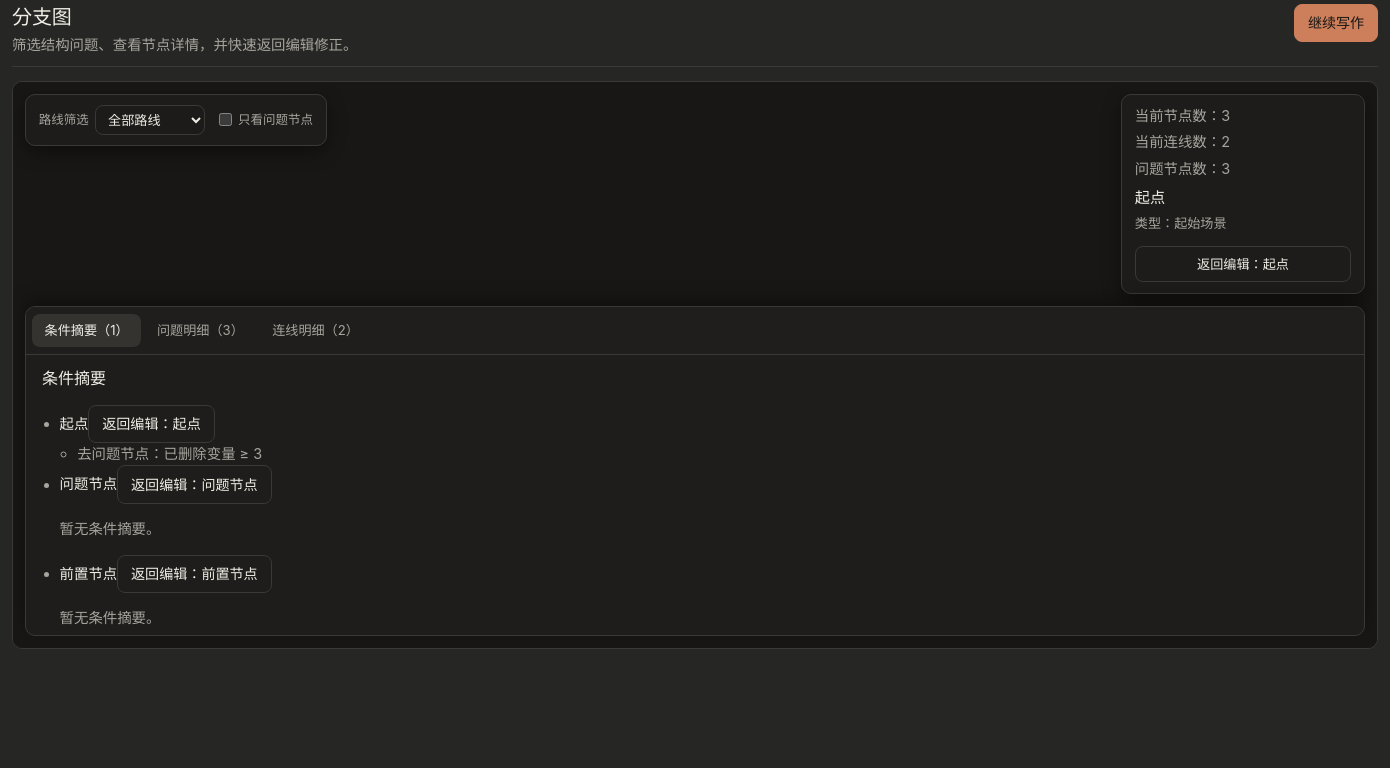
GraphPage › 显示问题明细并在只看问题节点时跟随当前子图收缩
Click the tab "问题明细（3）" at (200,330), box [145, 314, 256, 347]
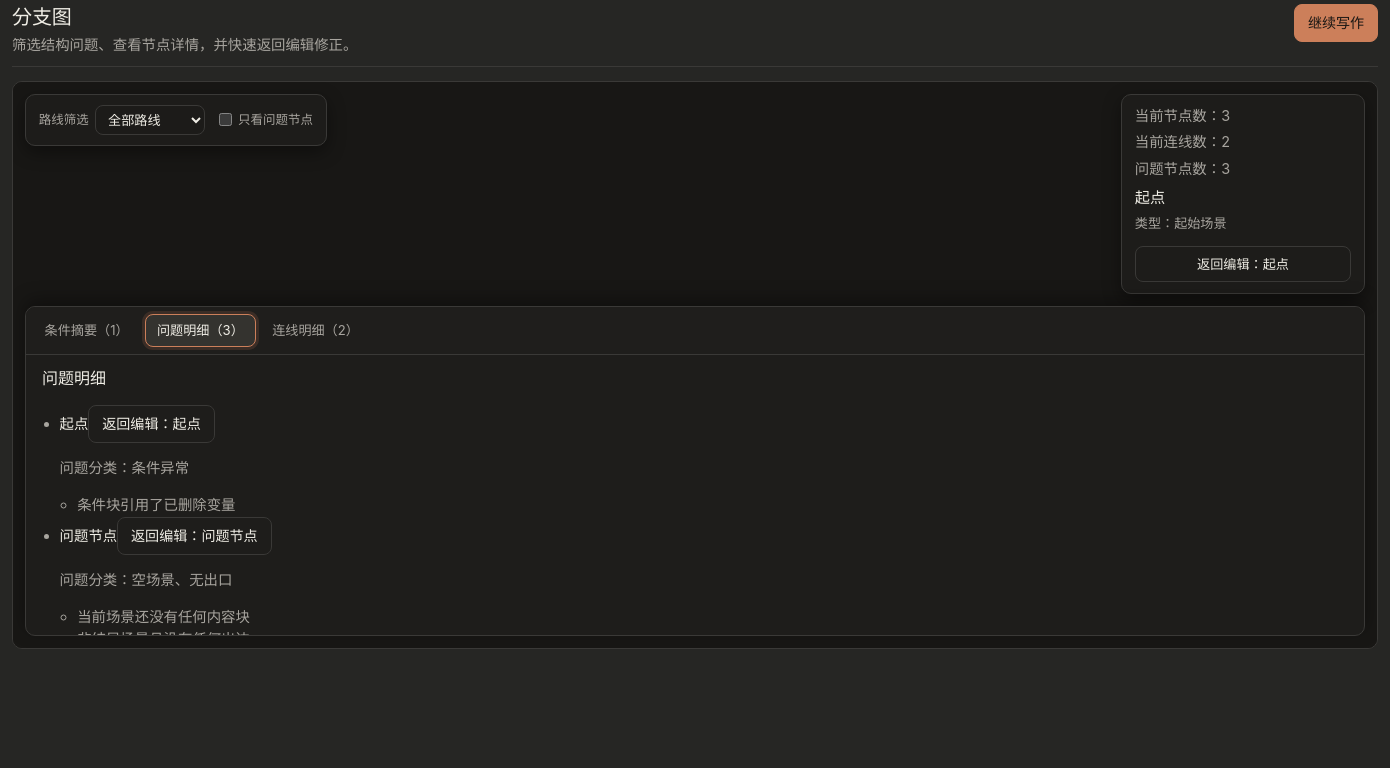
Check: the text "问题分类：条件异常" is shown, box [60, 460, 189, 476]
Check: the list item "条件块引用了已删除变量" is shown, box [77, 496, 236, 513]
Check: the text "问题分类：空场景、无出口" is shown, box [60, 571, 232, 588]
Click the checkbox labelled "只看问题节点" at (225,120), box [219, 113, 232, 126]
(page scrolled)
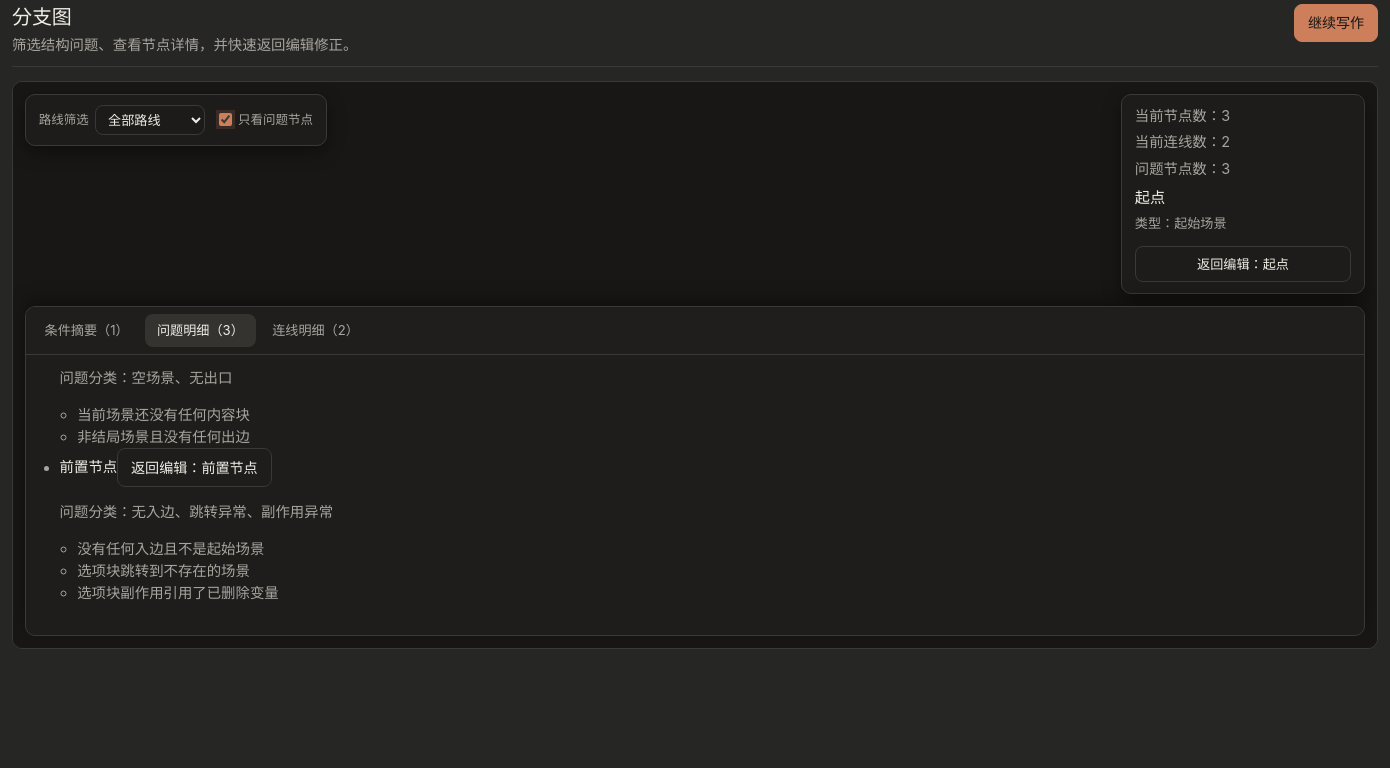
Check: the text "前置节点" is shown, box [60, 459, 117, 476]
Check: the list item "选项块副作用引用了已删除变量" is shown, box [77, 584, 279, 601]
